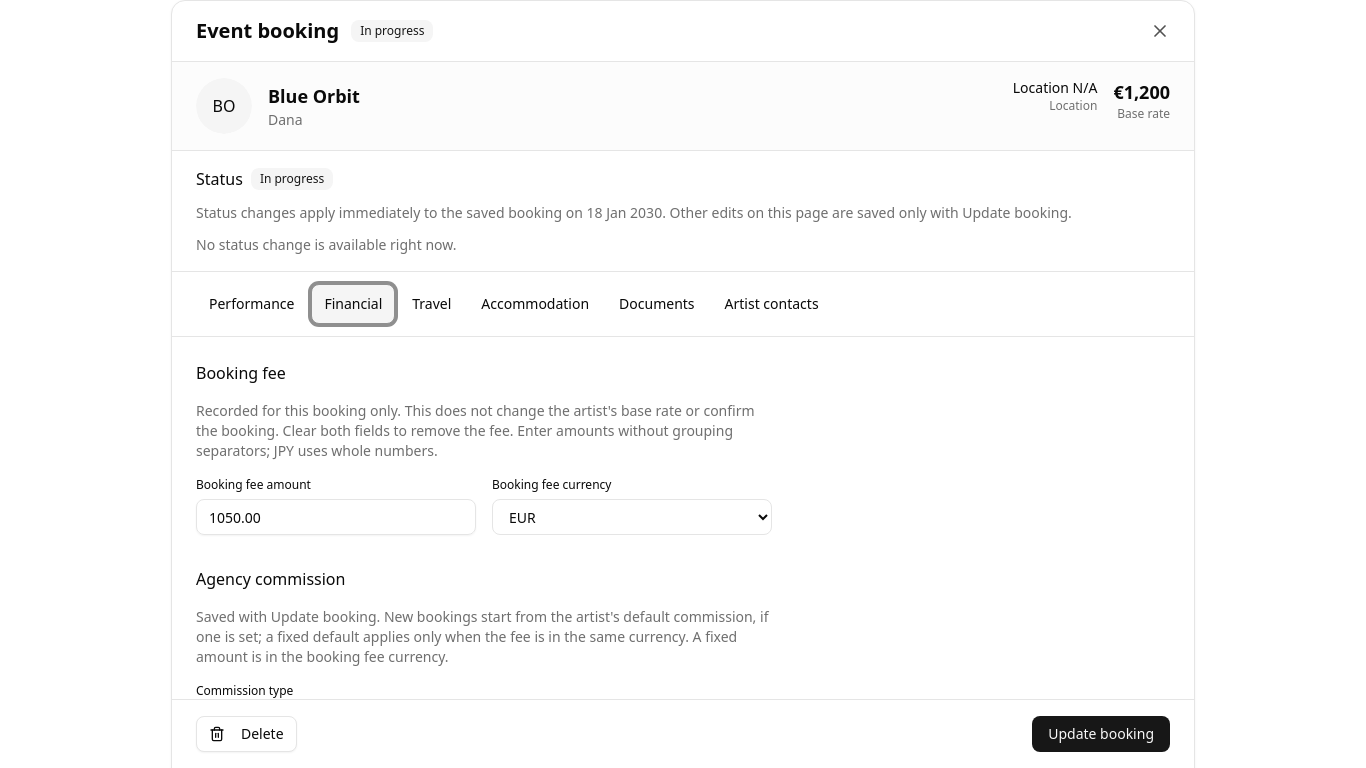
Test case: associates negative-fee feedback with the amount and sends focus directly to correction
This screenshot has width=1366, height=768.
Later steps or results of the test are not shown.
Replace the text in the field labelled "Booking fee amount" with "-10". click: (336, 517)
box: [196,499,476,535]
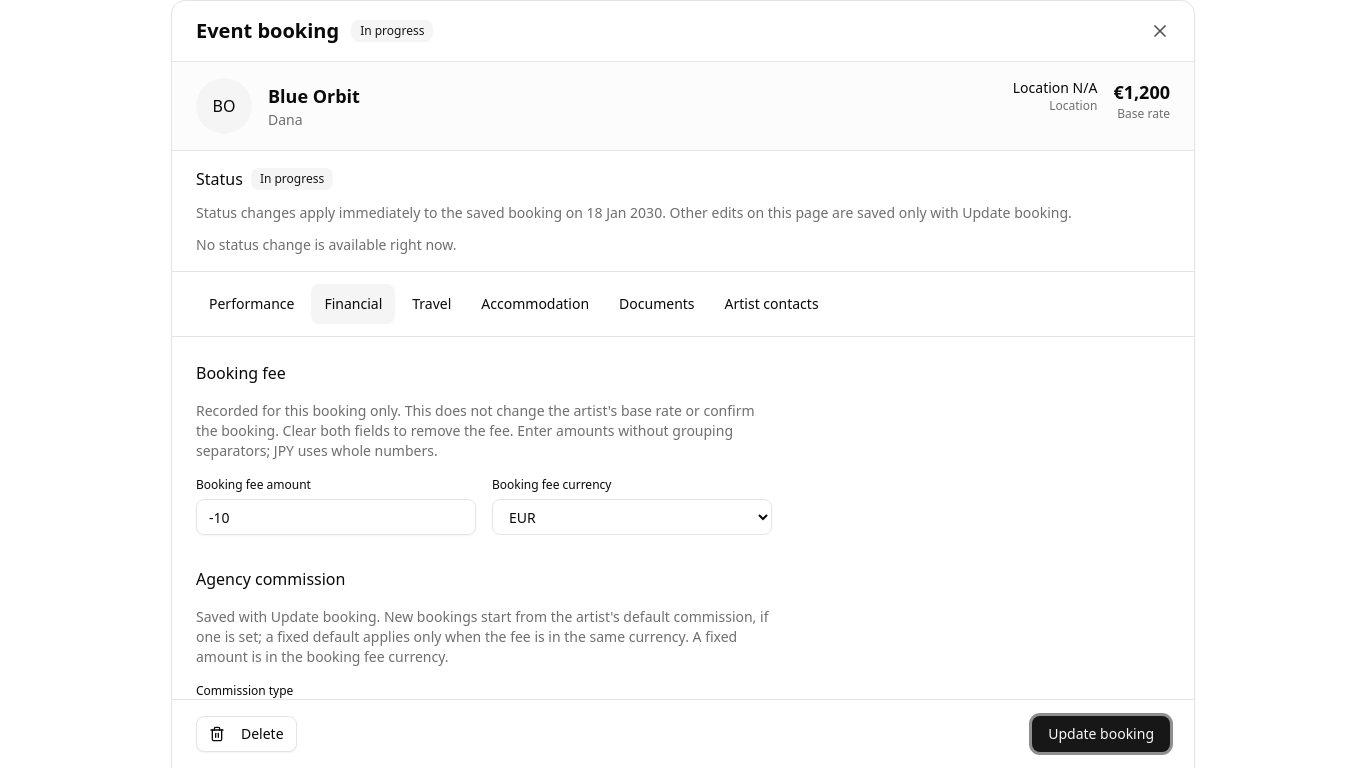
Click the button "Update booking". click: (1101, 734)
box: [1032,716,1170,752]
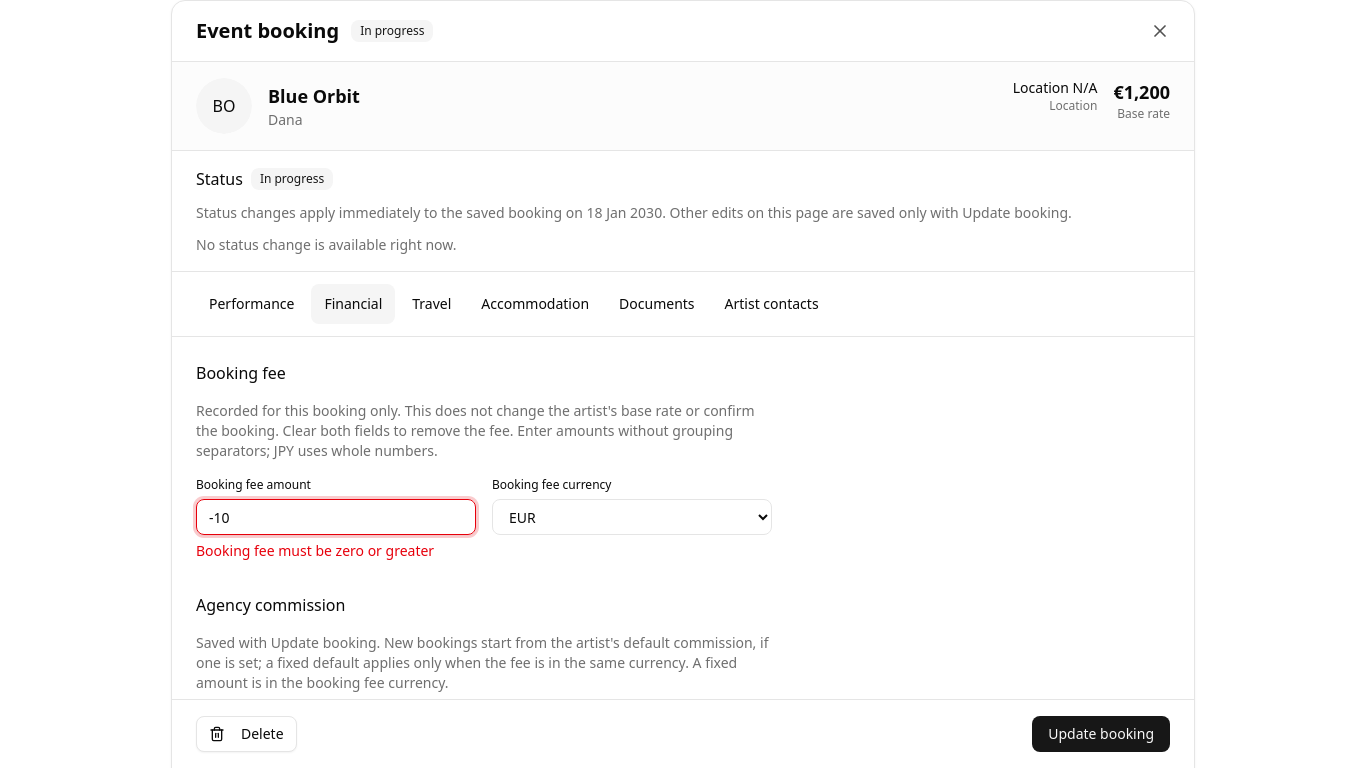
Expected: the message reads "Booking fee must be zero or greater", [196,541,434,560]
Replace the text in the field labelled "Booking fee amount" with "900". click: (336, 517)
box: [196,499,476,535]
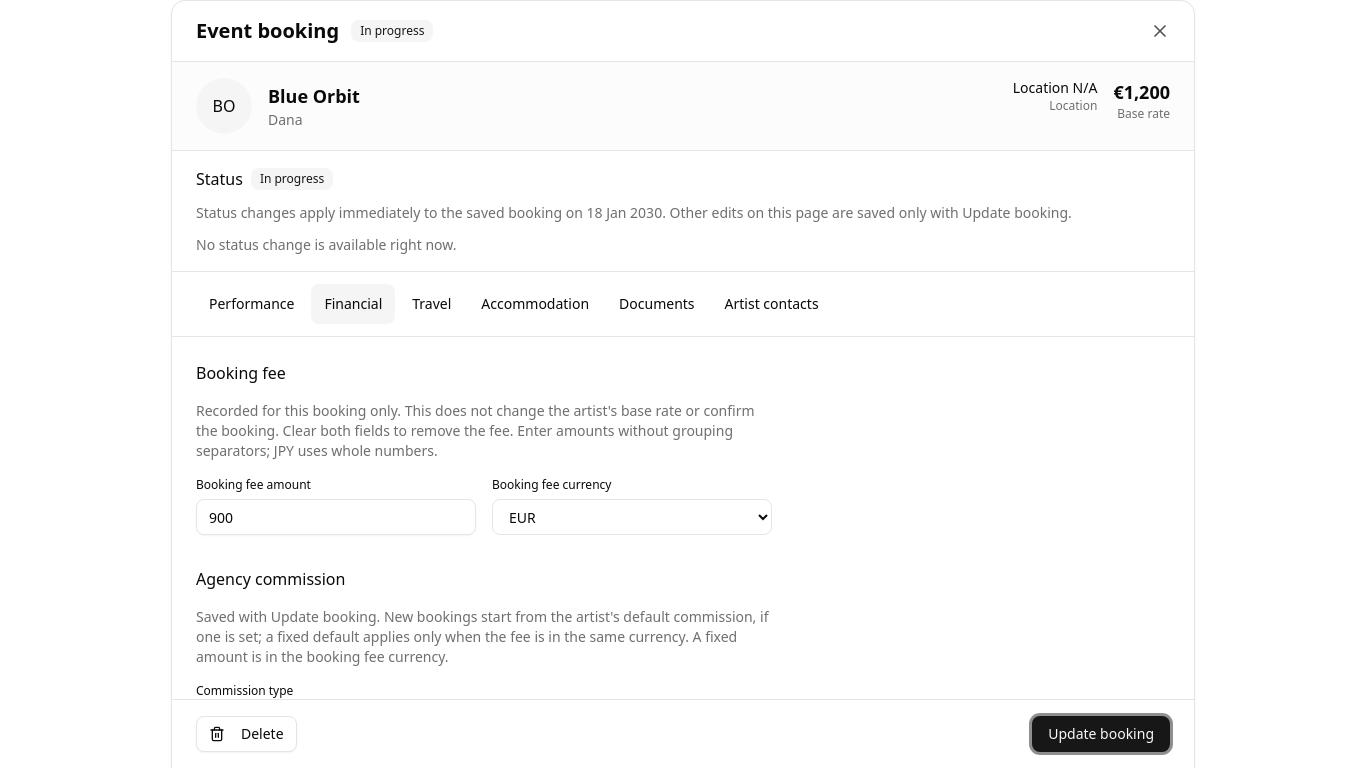
Expected: the message "Booking fee must be zero or greater" is gone
